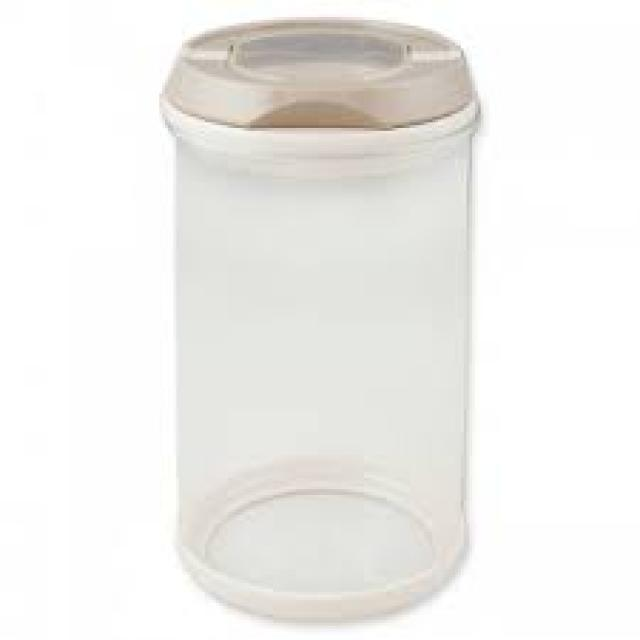glass: (162, 105, 472, 620)
plastic: (159, 17, 481, 145)
